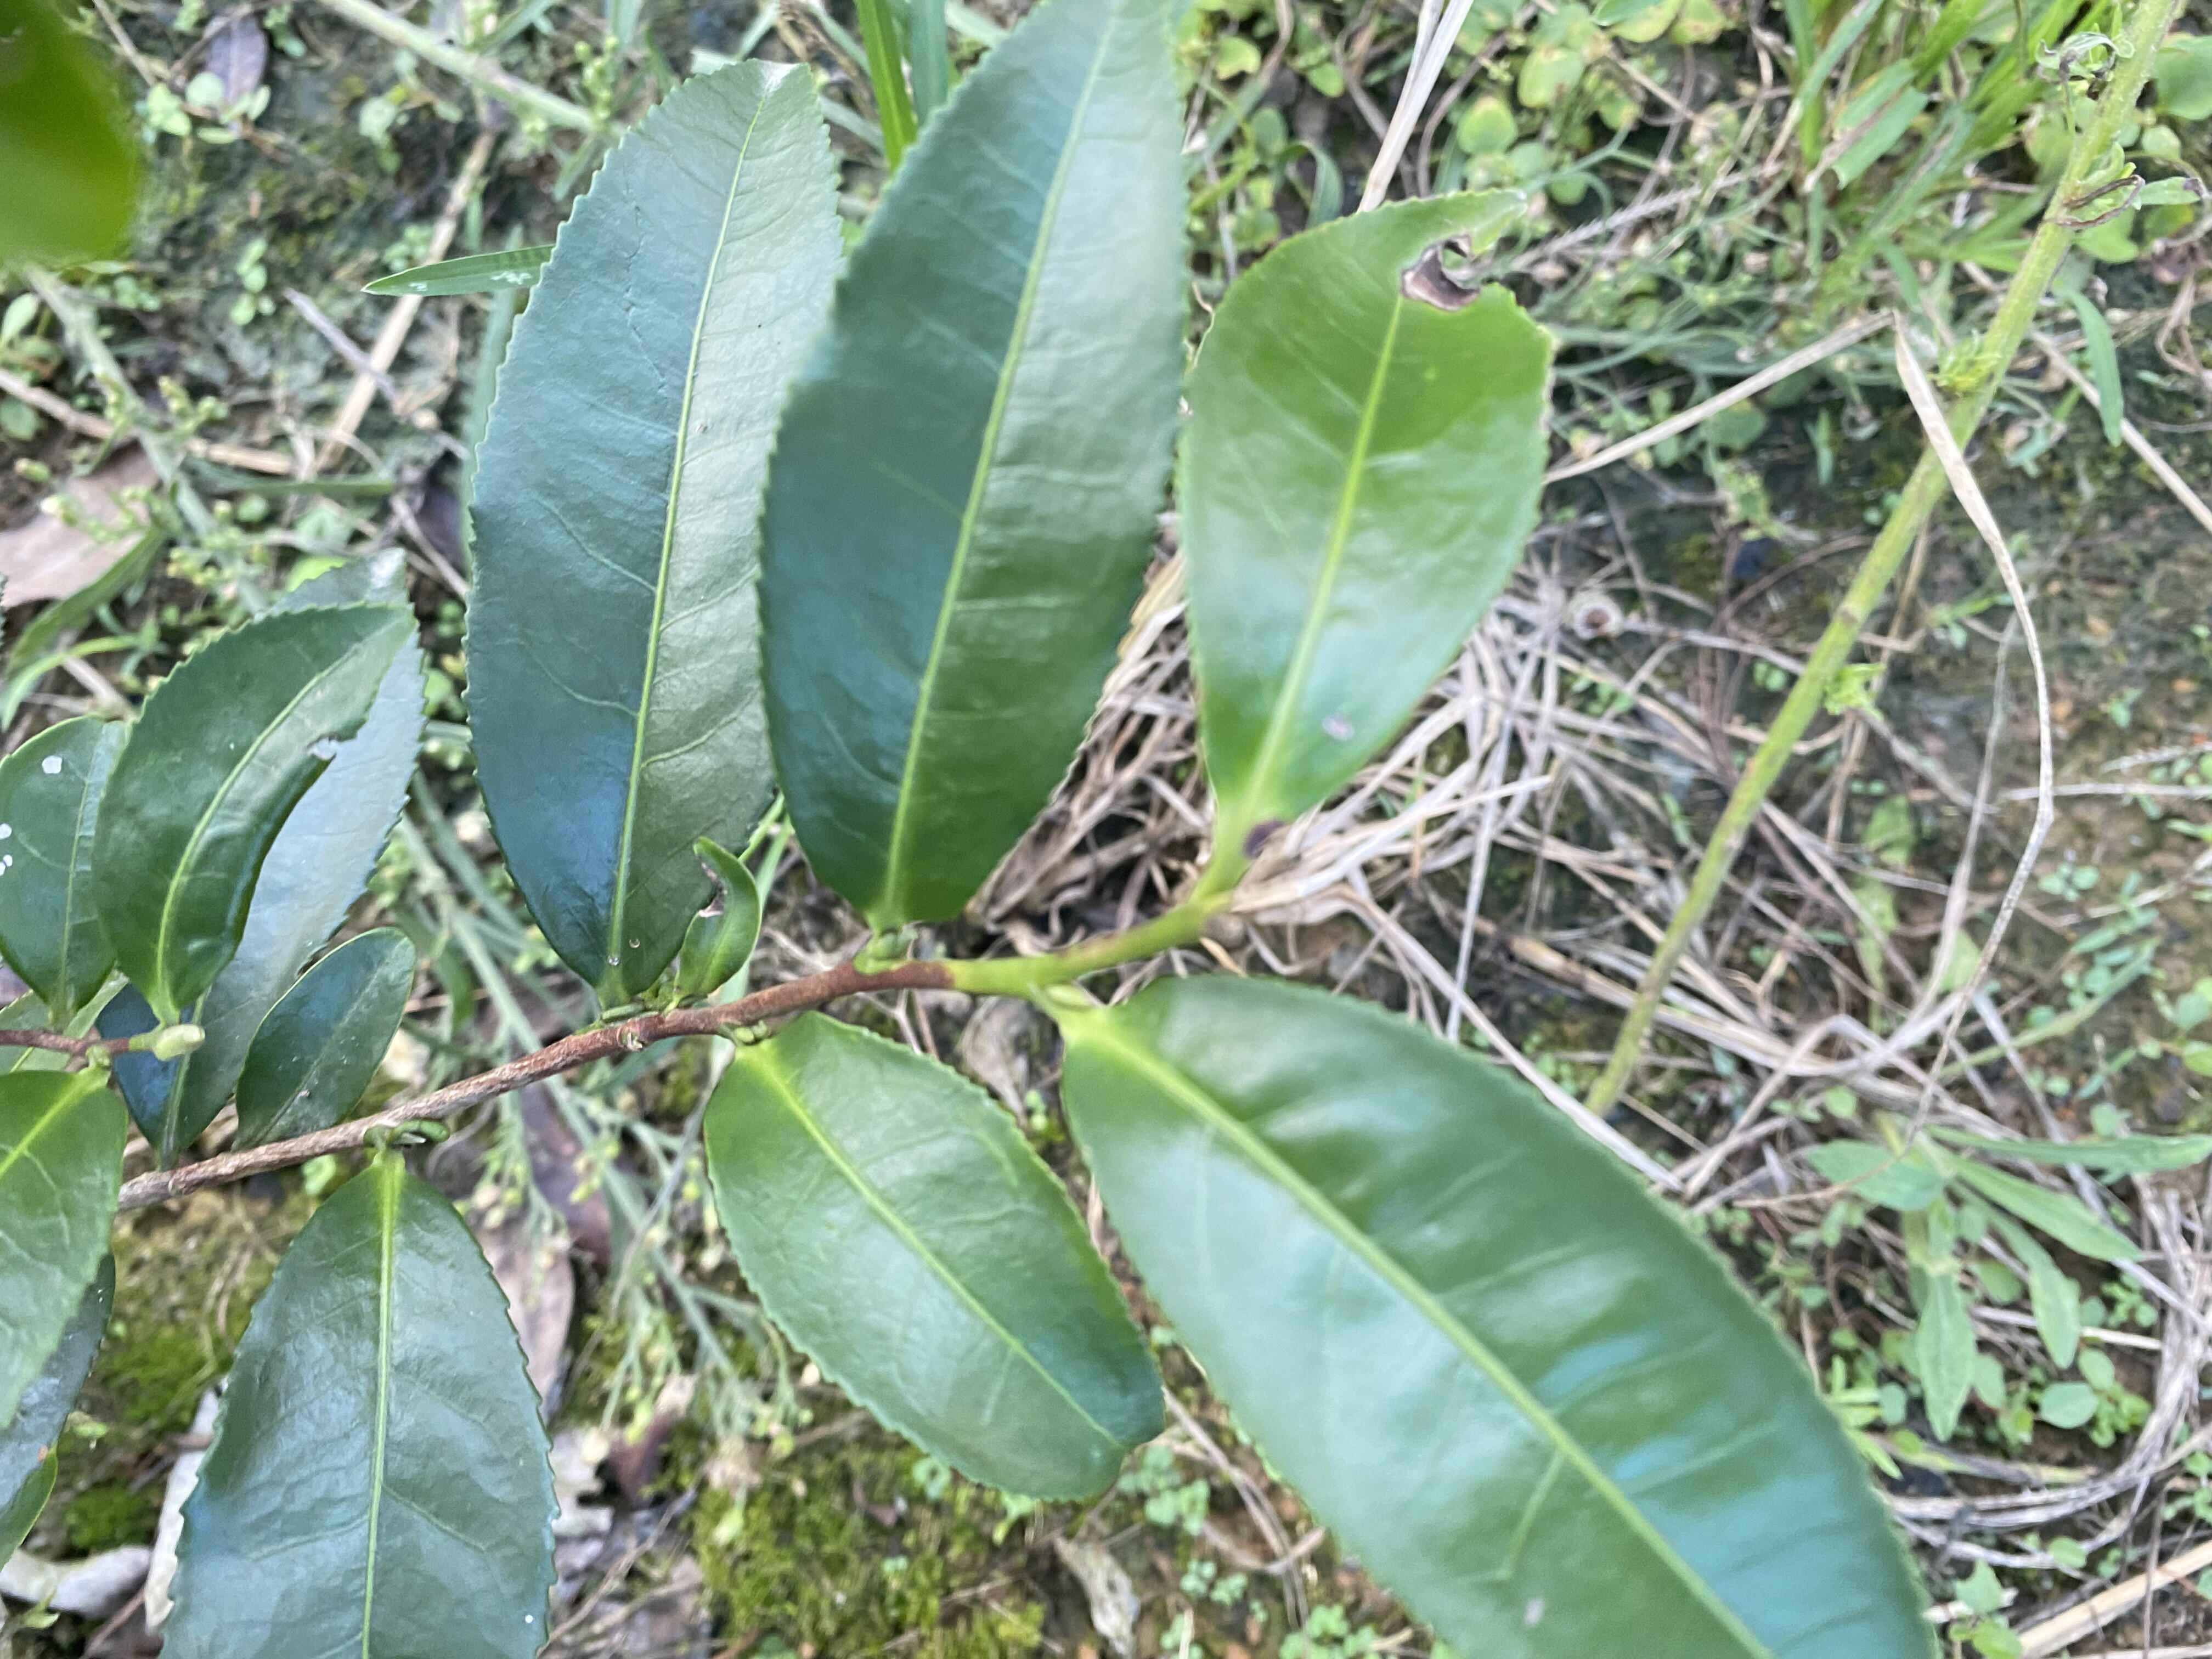chihuo_low: (91, 601, 394, 1025)
healthy: (752, 2, 1195, 927), (462, 61, 846, 972), (704, 1009, 1169, 1506)
tanju_high: (1174, 185, 1557, 814), (669, 838, 761, 999)
tanju_low: (1059, 972, 1949, 1656), (2, 713, 132, 1012)
